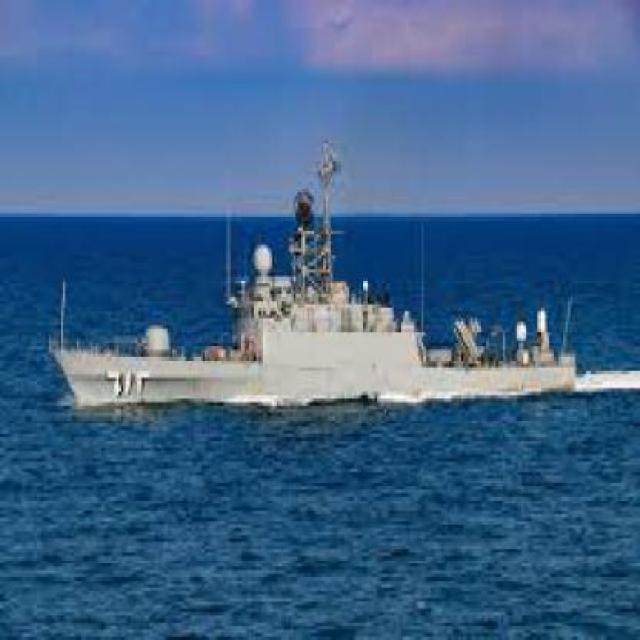warship2: (48, 197, 606, 431)
